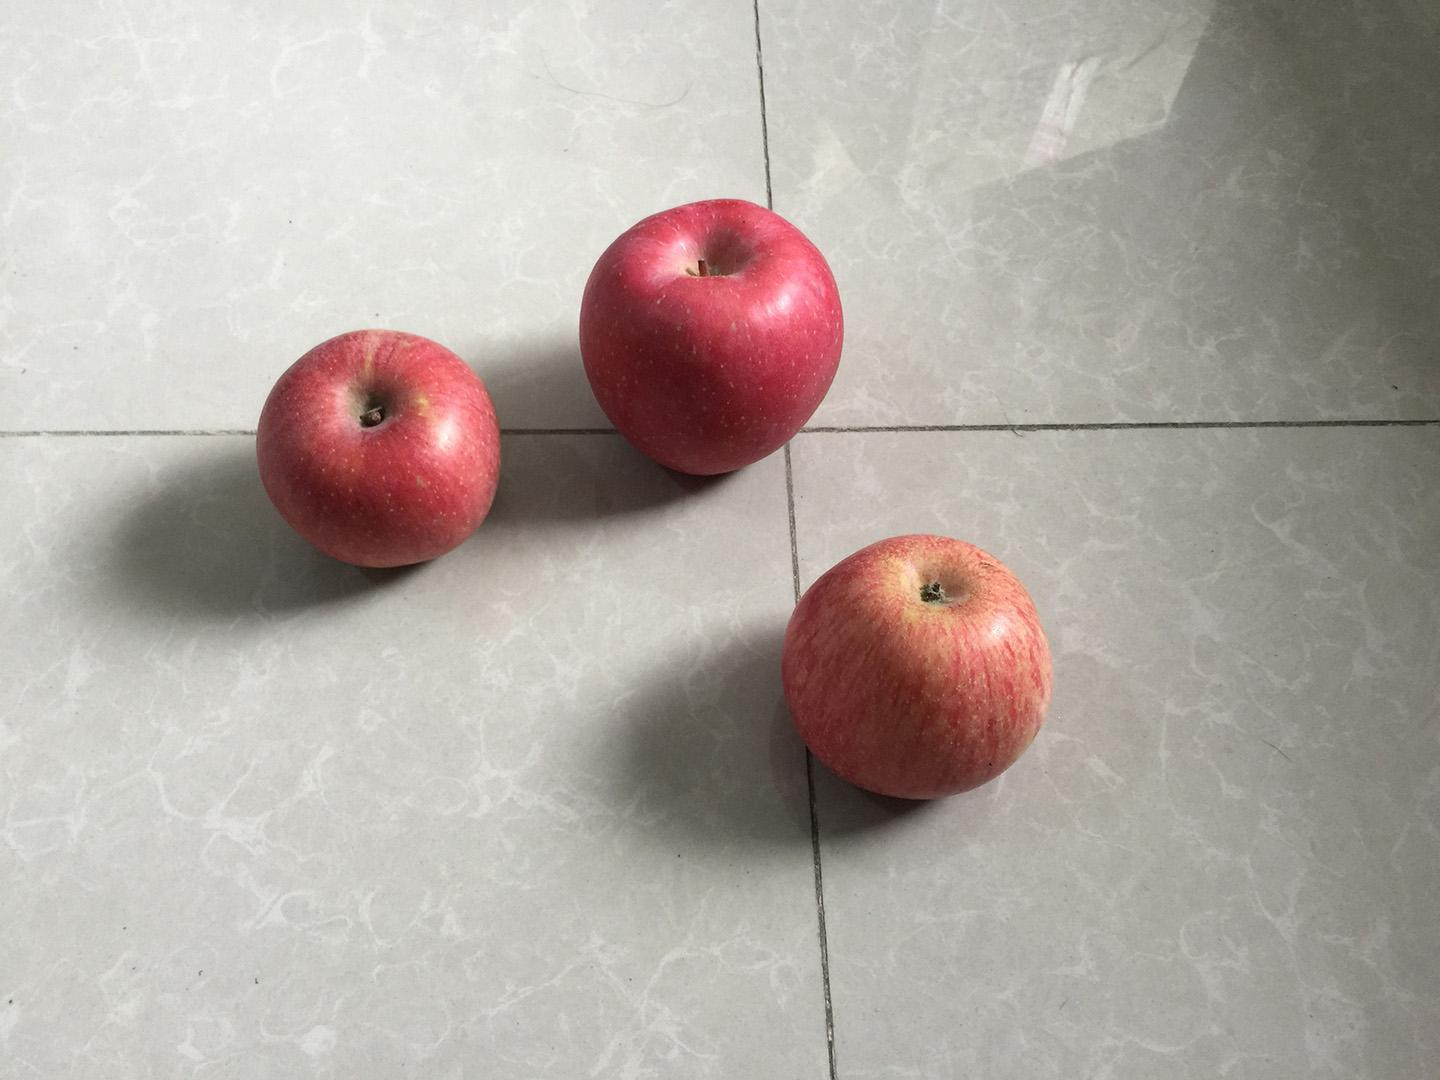apple: (569, 189, 852, 482), (776, 523, 1059, 805), (251, 321, 507, 579)
